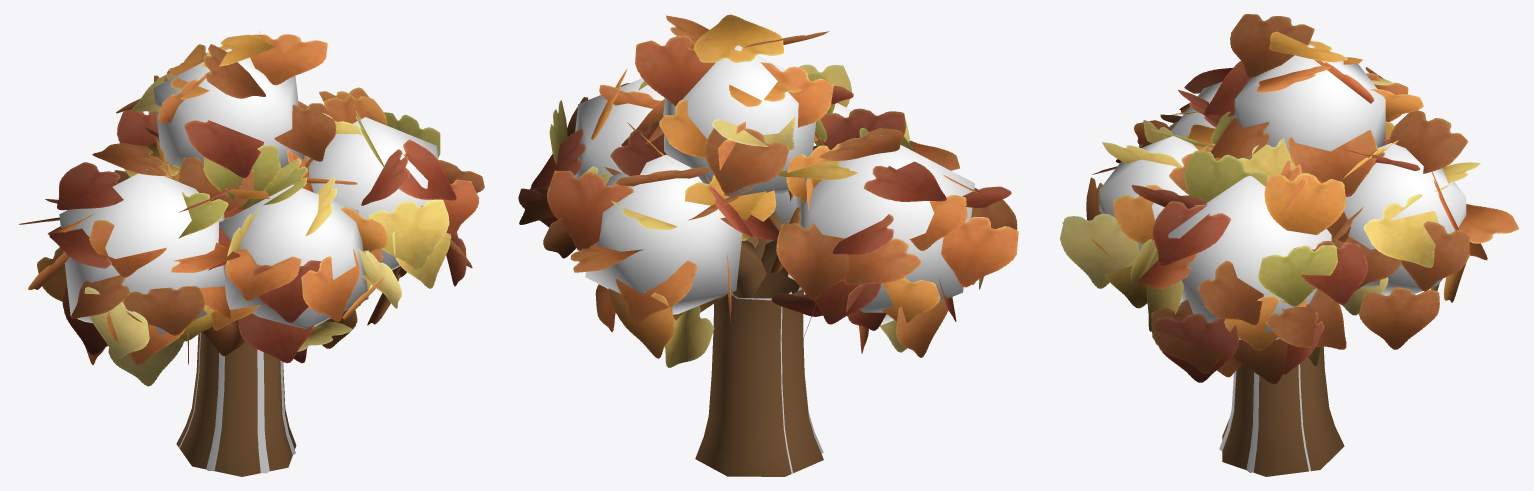
File: tree-wide-autumn.lod1.glb
3 renders of one model, left to right at view 1: azimuth 30°, elevation 25°; view 2: azimuth 150°, elevation 25°; view 3: azimuth 270°, elevation 25°, orthographic. The views are drawn at different scales.
Visible parts, largest first — view 1: Crown, Hull, Trunk, Stem; view 2: Crown, Hull, Trunk, Stem; view 3: Crown, Hull, Trunk, Stem.
Boxes of the visible parts, x1,y1,x2,y2 form: Crown: (19, 32, 484, 386); Hull: (59, 48, 438, 334); Trunk: (176, 332, 296, 476); Stem: (179, 333, 295, 473); Crown: (518, 14, 1018, 367); Hull: (574, 45, 974, 325); Trunk: (695, 211, 823, 476); Stem: (731, 287, 823, 473); Crown: (1060, 14, 1519, 383); Hull: (1099, 44, 1466, 339); Trunk: (1222, 346, 1344, 476); Stem: (1219, 364, 1310, 472).
Size of the model in its own units: 3.73 by 3.23 by 3.24.
4 materials, 1 textured.
